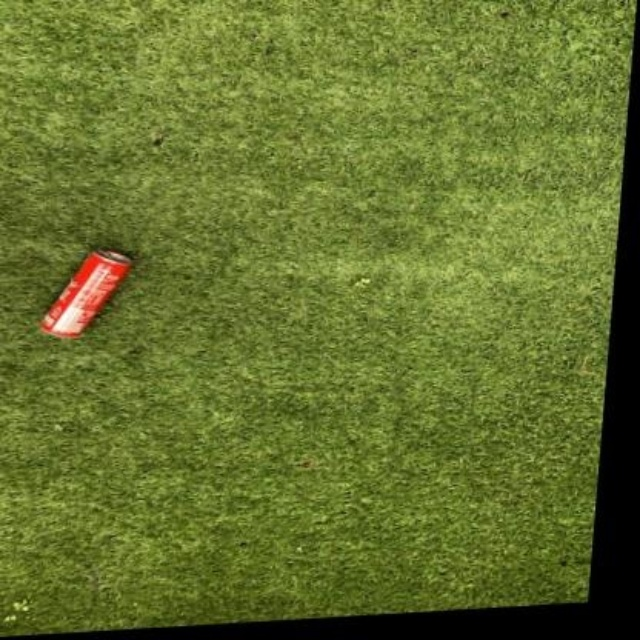trash: (42, 249, 129, 335)
